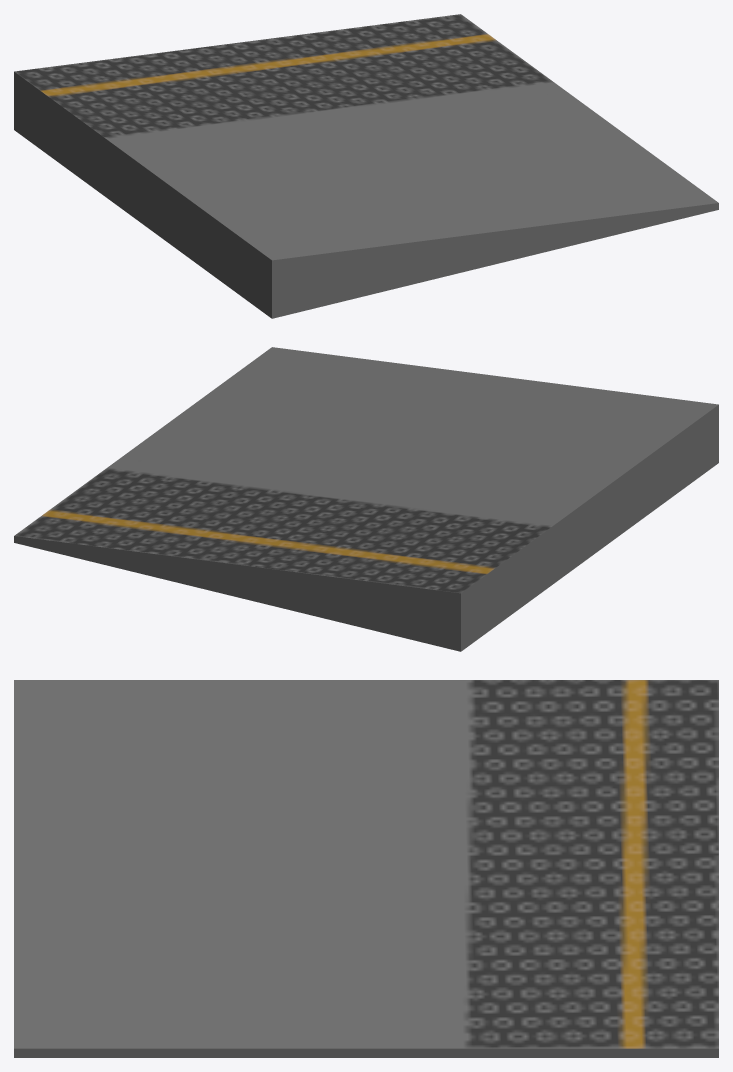
3 renders of one model, top to bottom at view 1: azimuth 30°, elevation 25°; view 2: azimuth 150°, elevation 25°; view 3: azimuth 270°, elevation 25°, orthographic. The views are drawn at different scales.
Parts seen in each view (by area): view 1: SM_B2_Part1; view 2: SM_B2_Part1; view 3: SM_B2_Part1.
Part boxes in pixels (x1,y1,x2,y2): SM_B2_Part1: [14, 14, 718, 318]; SM_B2_Part1: [14, 347, 718, 651]; SM_B2_Part1: [14, 680, 718, 1057].
Bounding box in the file's own units: 406 × 406 × 50.77.
Materials: 1 (1 with a texture image).
